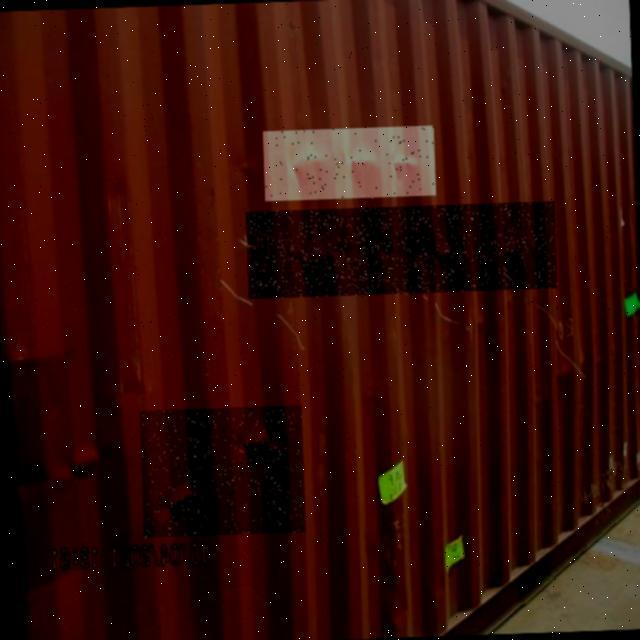Dent: (245, 201, 557, 299), (263, 126, 436, 204)
Minor-Dent: (139, 405, 305, 538)
